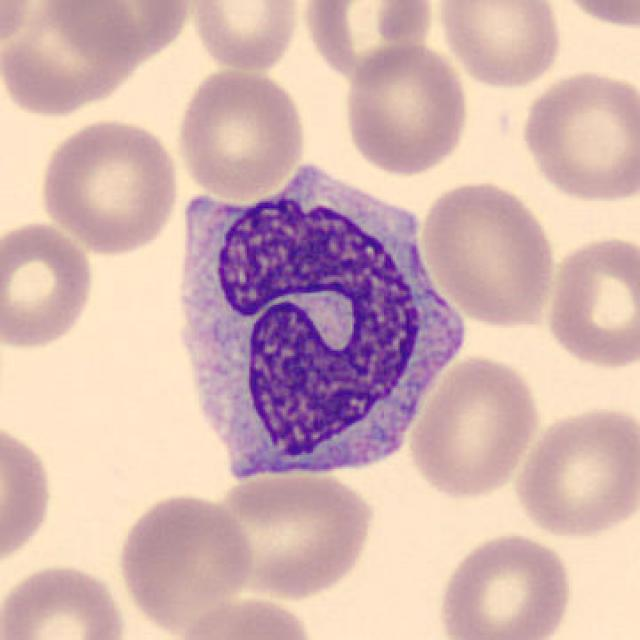Monocyte: (158, 153, 476, 499)
RBC: (204, 464, 378, 603), (418, 174, 560, 330), (114, 488, 256, 635), (36, 114, 183, 256), (406, 352, 542, 500), (172, 64, 310, 200), (339, 39, 473, 178), (508, 402, 638, 541), (518, 66, 638, 206), (2, 0, 142, 118), (432, 529, 576, 640), (542, 229, 638, 374), (0, 216, 98, 352), (432, 0, 565, 90), (301, 0, 439, 85), (0, 559, 130, 640), (0, 414, 59, 576), (46, 0, 193, 63), (185, 0, 302, 74), (172, 592, 320, 640), (549, 0, 640, 32), (0, 0, 39, 58)
